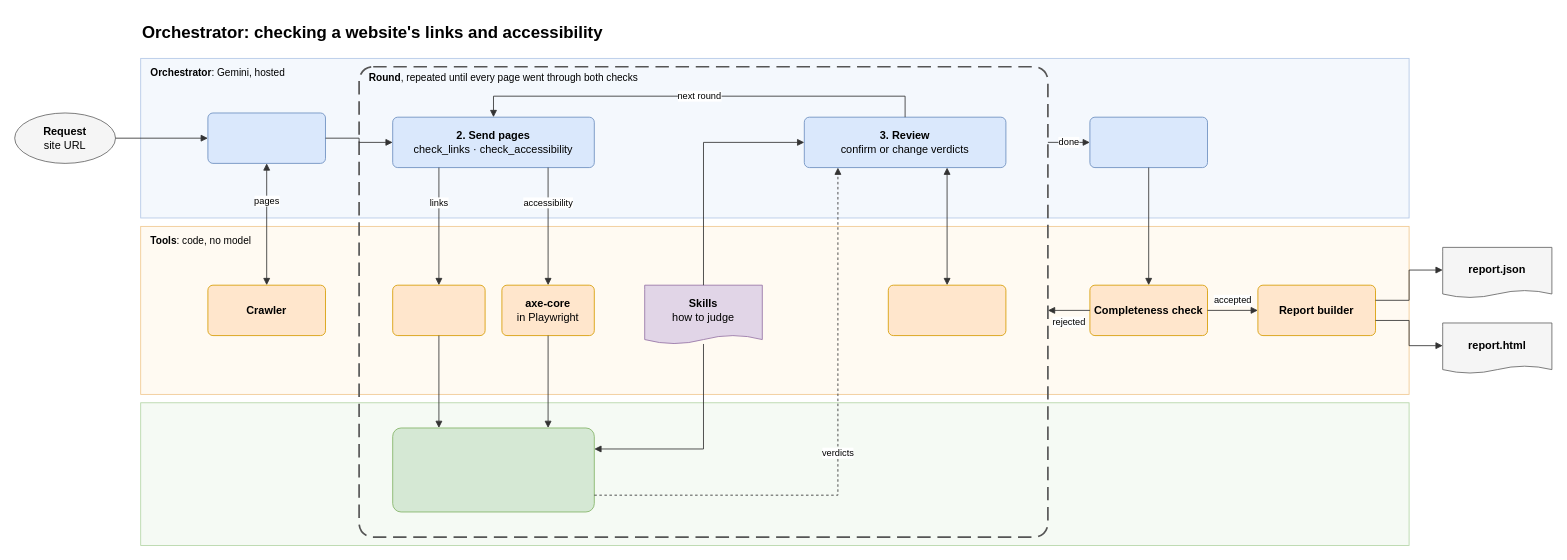
The diagram is 1567 pixels wide and 560 high, and some of its shapes have lost their labels. The shapes that lost their labels are listed below. From the top down, each one's box as (x1, y1, x2, y2) in pixels, then its label:
(207, 112, 326, 163): 1. Crawl
(1089, 116, 1208, 168): 4. Submit
(392, 284, 485, 336): Link checker
(887, 284, 1006, 336): Evidence page text, screenshots
(392, 427, 594, 512): Workers judge each link and page element
(140, 402, 1409, 546): Workers : small model, local
